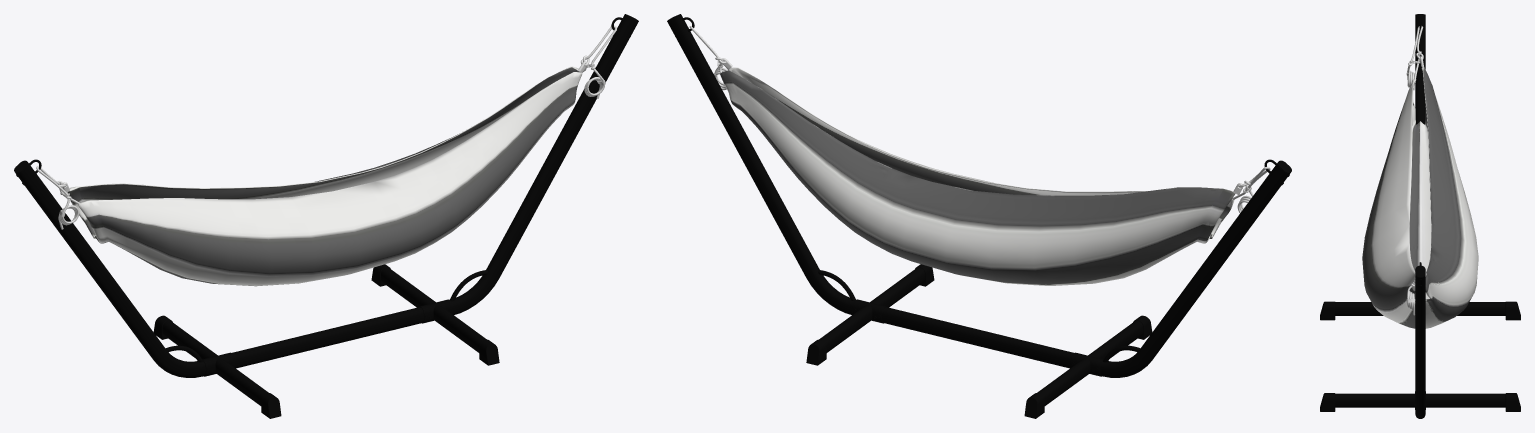
File: bockon_hamnon_hamak_ze_stojakiem_59495773.glb
3 views of the same model, side by side, from view 1: azimuth 30°, elevation 25°; view 2: azimuth 150°, elevation 25°; view 3: azimuth 270°, elevation 25° (orthographic). The views are drawn at different scales.
Visible parts, largest first — view 1: bockon_hamnon_hamak_ze_stojakiem_59495773; view 2: bockon_hamnon_hamak_ze_stojakiem_59495773; view 3: bockon_hamnon_hamak_ze_stojakiem_59495773.
Part boxes in pixels (x1,y1,x2,y2): bockon_hamnon_hamak_ze_stojakiem_59495773: (14, 14, 638, 418); bockon_hamnon_hamak_ze_stojakiem_59495773: (667, 14, 1291, 418); bockon_hamnon_hamak_ze_stojakiem_59495773: (1320, 14, 1520, 418).
Size of the model in its own units: 3.08 by 1.23 by 1.
4 materials, 1 textured.
